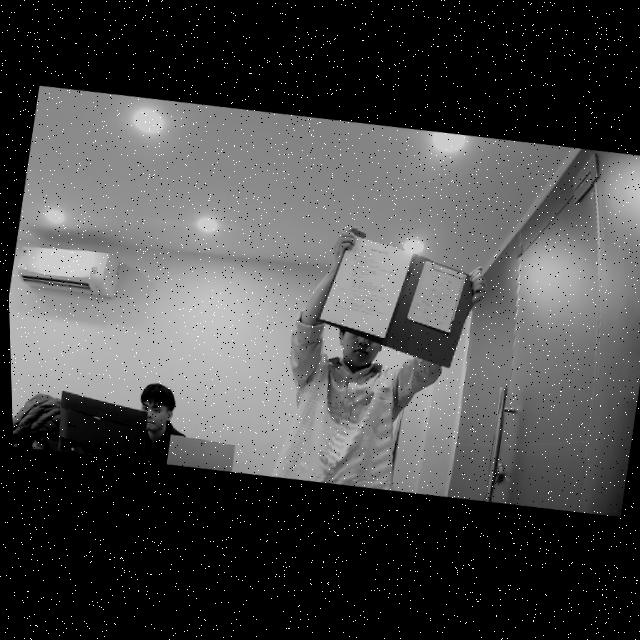document: (319, 234, 413, 338), (406, 260, 467, 333)
face: (137, 386, 183, 438)
